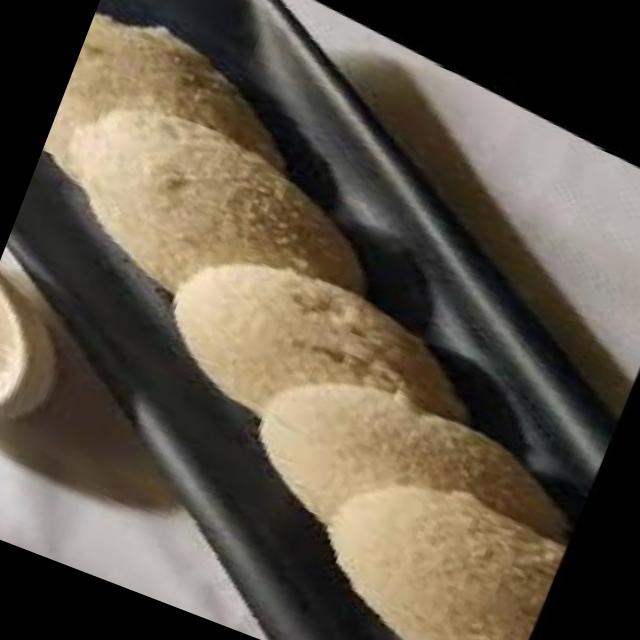idli: (32, 70, 410, 368), (232, 328, 606, 618), (142, 210, 508, 498), (31, 0, 321, 264), (299, 430, 582, 640)
